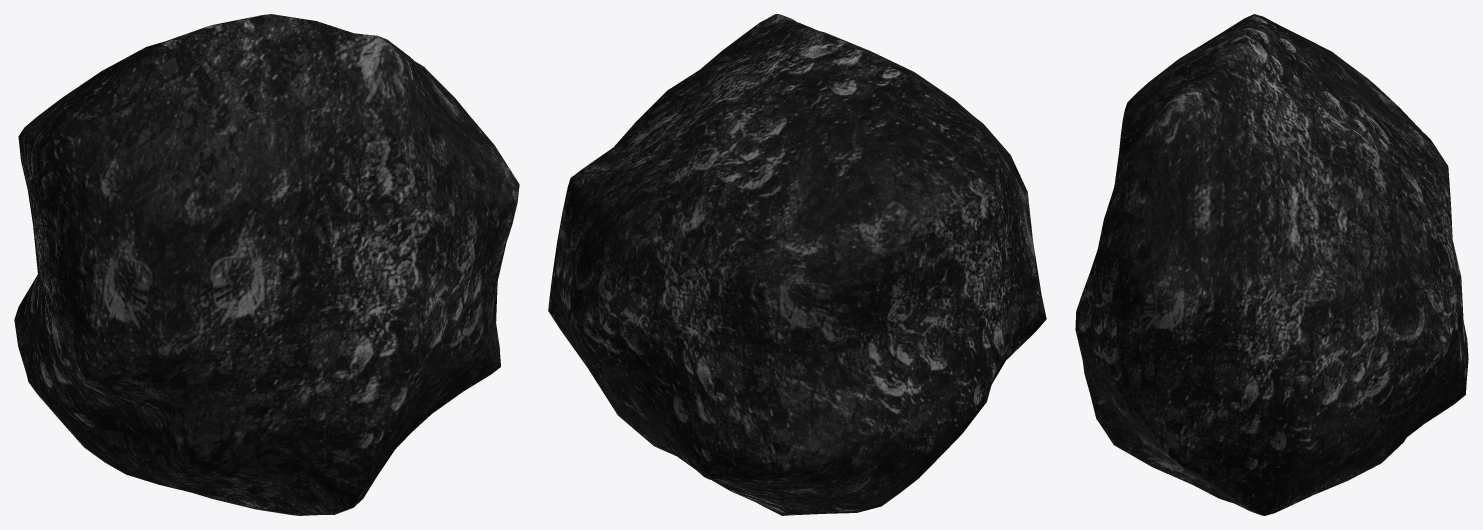
File: Asteroid_Small_6X.dae
3 renders of one model, left to right at view 1: azimuth 30°, elevation 25°; view 2: azimuth 150°, elevation 25°; view 3: azimuth 270°, elevation 25°, orthographic. The views are drawn at different scales.
Parts seen in each view (by area): view 1: Aster_Small_4_; view 2: Aster_Small_4_; view 3: Aster_Small_4_.
Part boxes in pixels (bbox=[...]): Aster_Small_4_: bbox=[14, 14, 519, 515]; Aster_Small_4_: bbox=[548, 14, 1046, 515]; Aster_Small_4_: bbox=[1075, 14, 1468, 515].
Bounding box in the file's own units: 1.24 × 1.26 × 1.
